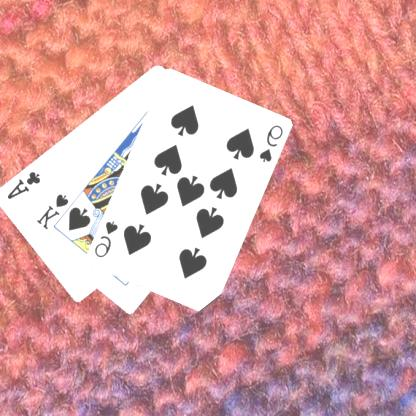9S: (258, 122, 286, 164), (93, 218, 121, 259)
AC: (6, 168, 43, 201)
KS: (35, 191, 72, 231)
